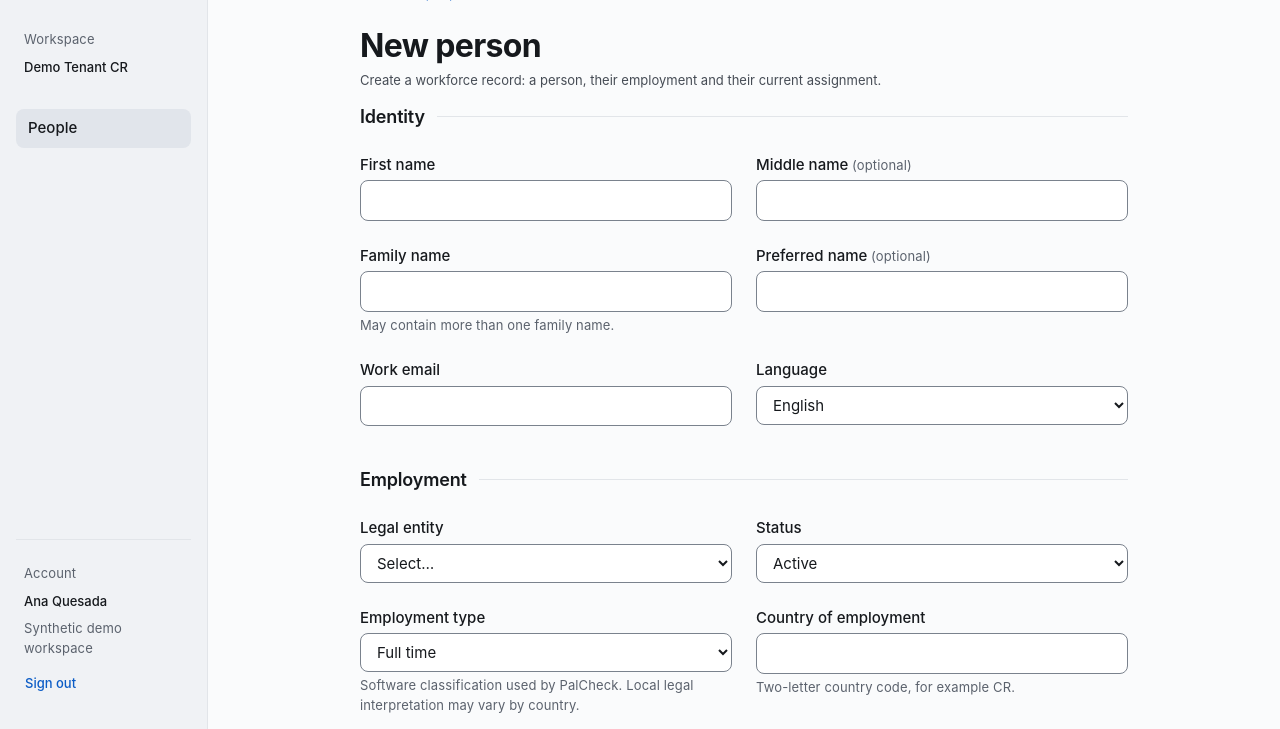
it: New person › creates the record, sends an idempotency key, and opens it
Type "Lucía" into the field labelled "First name" at (546, 200), box [360, 180, 732, 221]
Type "Mora Jiménez" into the field labelled "Family name" at (546, 291), box [360, 271, 732, 312]
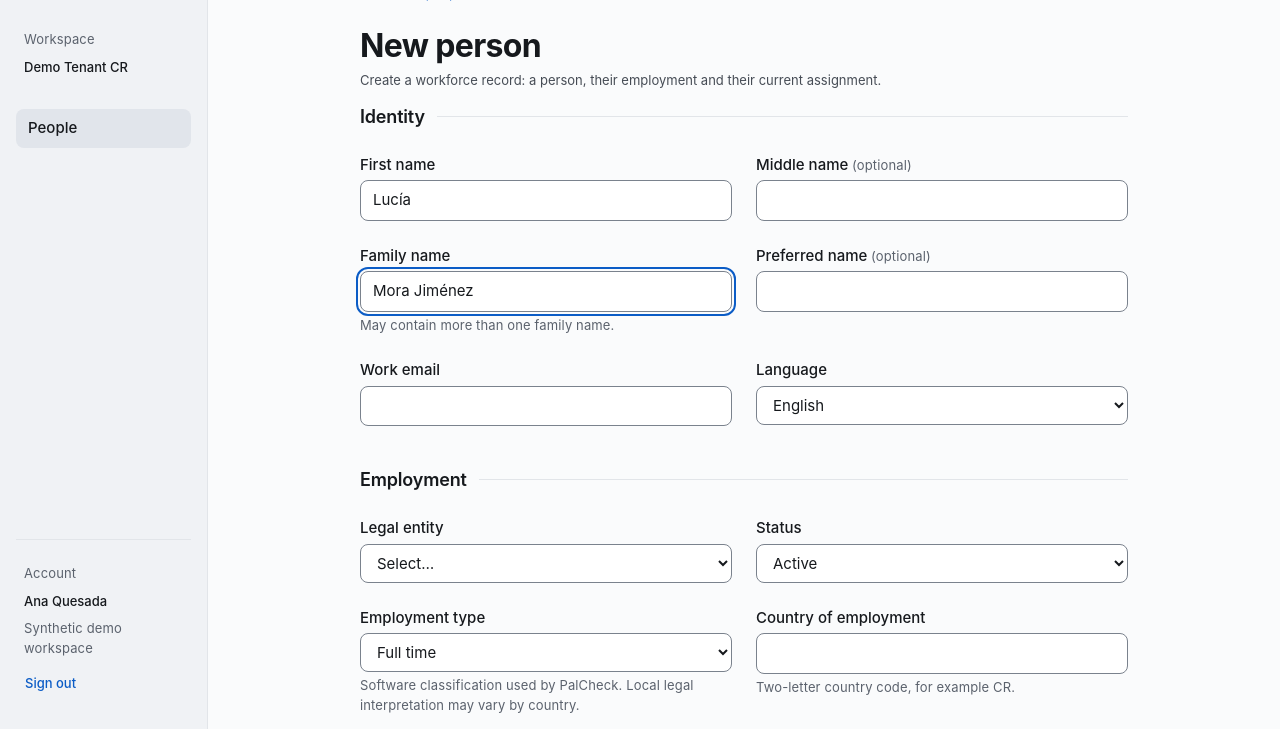
Type "lucia.mora@example.test" into the field labelled "Work email" at (546, 406), box [360, 386, 732, 426]
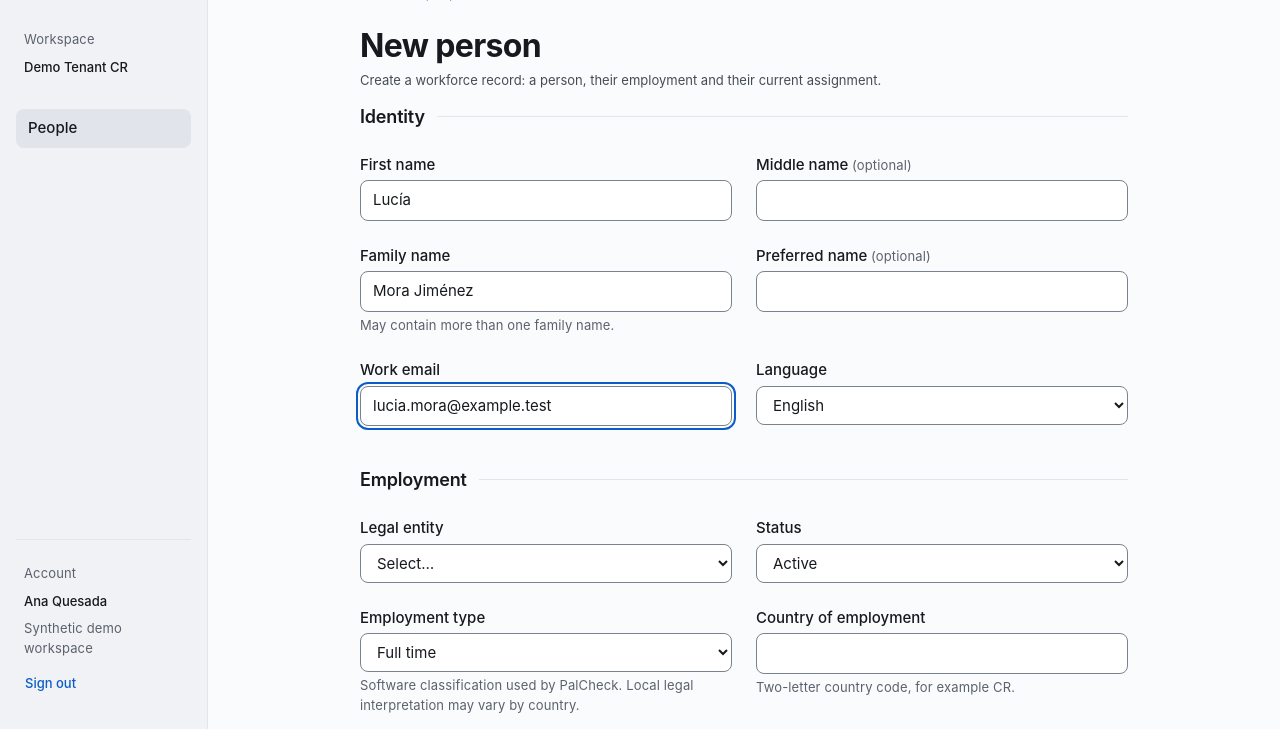
Select "Demo Servicios S.A. (fictional) (CR)" in the dropdown labelled "Legal entity" at (546, 563), box [360, 544, 732, 583]
(page scrolled)
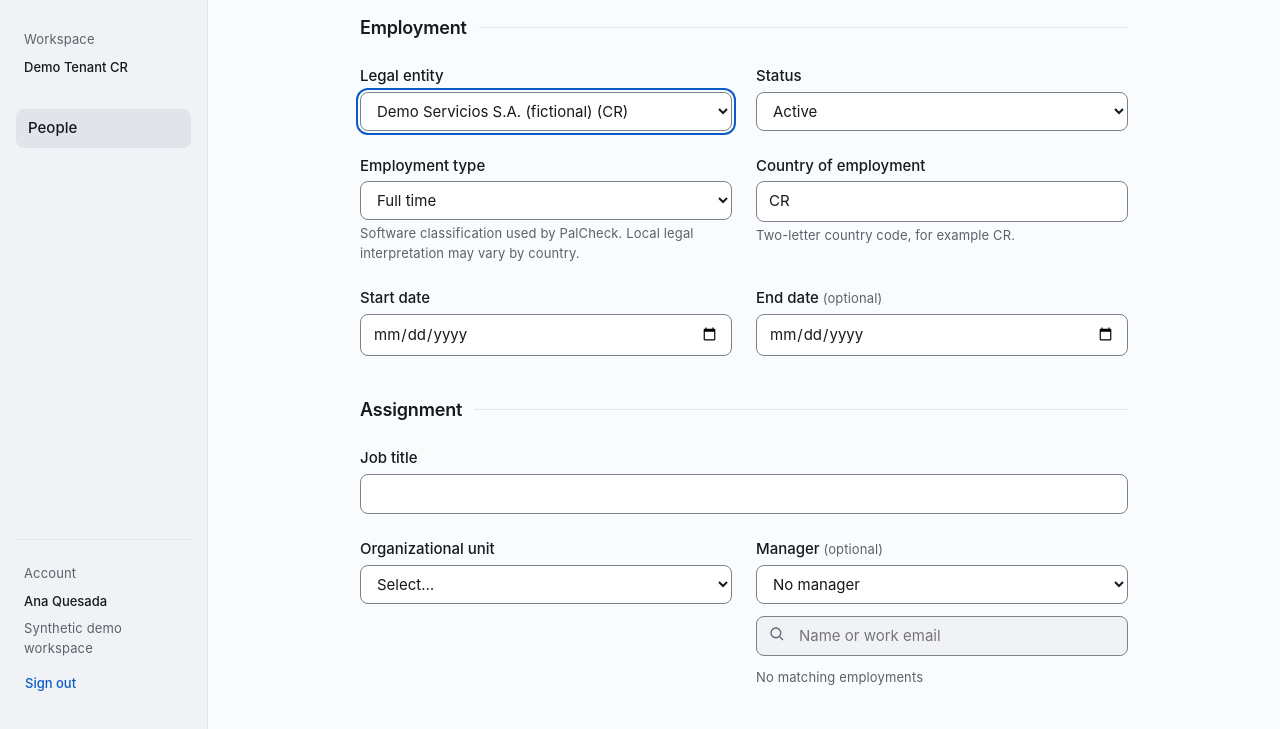
Type "2026-03-02" into the date field labelled "Start date" at (546, 335), box [360, 314, 732, 356]
Type "Support Analyst" into the field labelled "Job title" at (744, 494), box [360, 474, 1128, 514]
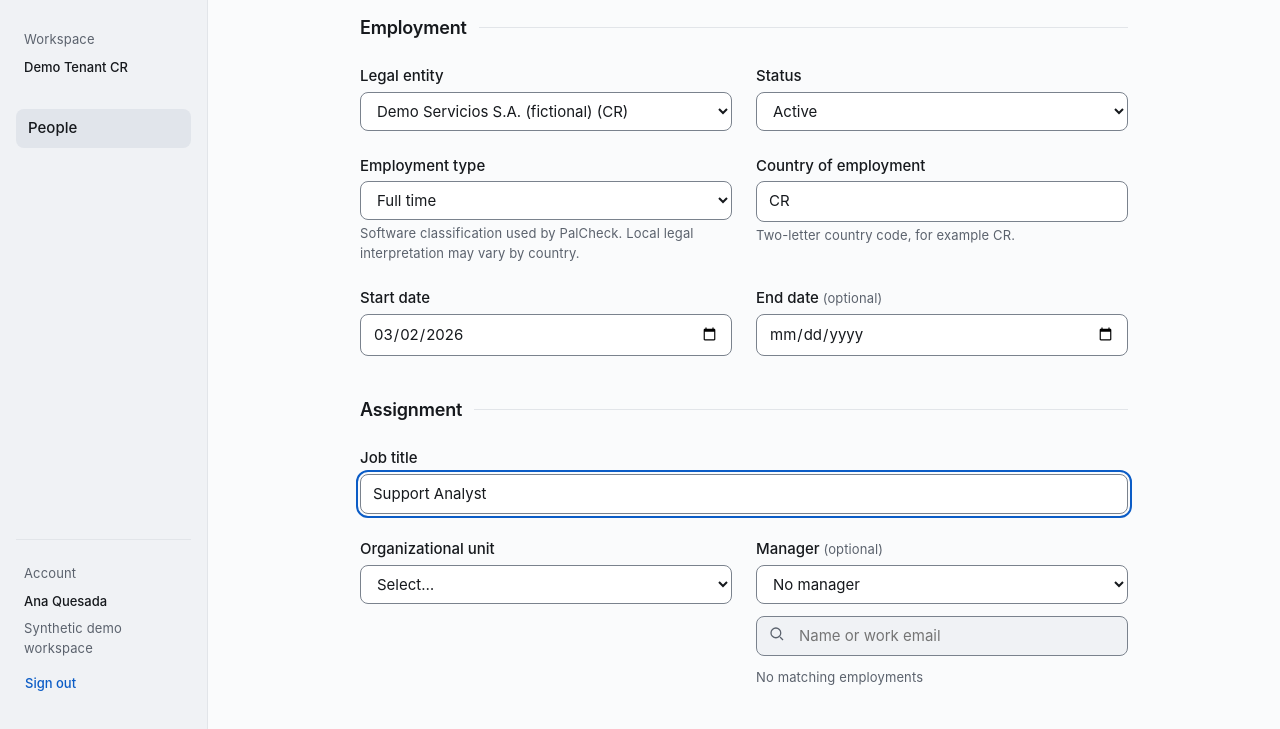
Select "Operations / Support" in the dropdown labelled "Organizational unit" at (546, 584), box [360, 565, 732, 604]
(page scrolled)
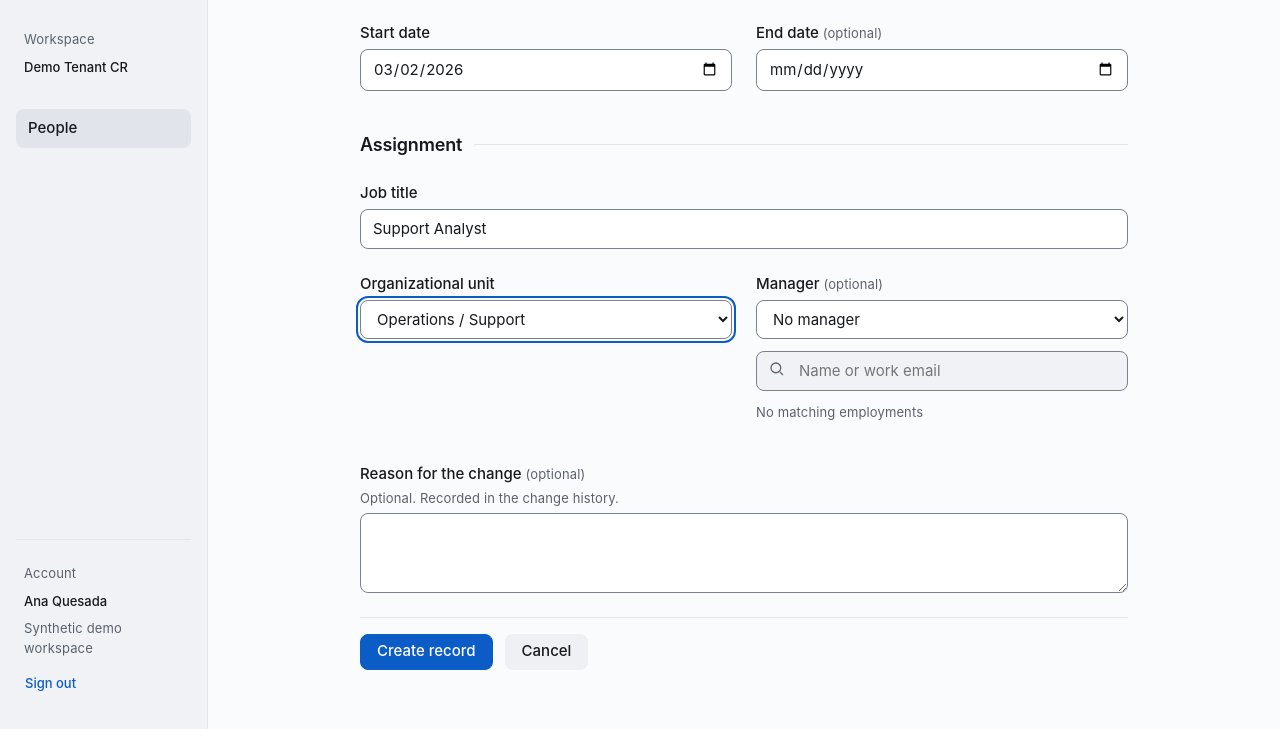
Click the button "Create record" at (426, 652), box [360, 634, 493, 670]
(page scrolled)
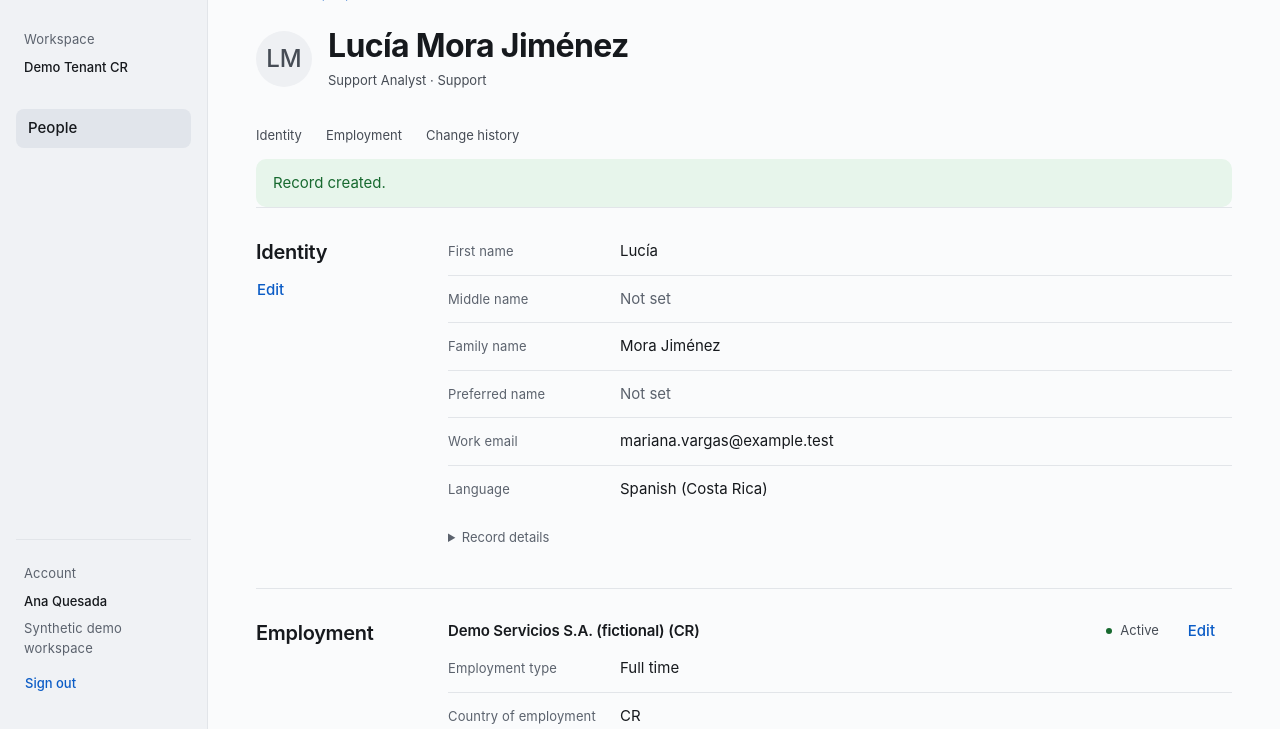
Check: the heading "Lucía Mora Jiménez" is shown, box [328, 28, 629, 63]
Check: the text "Record created." is shown, box [256, 159, 1232, 207]
